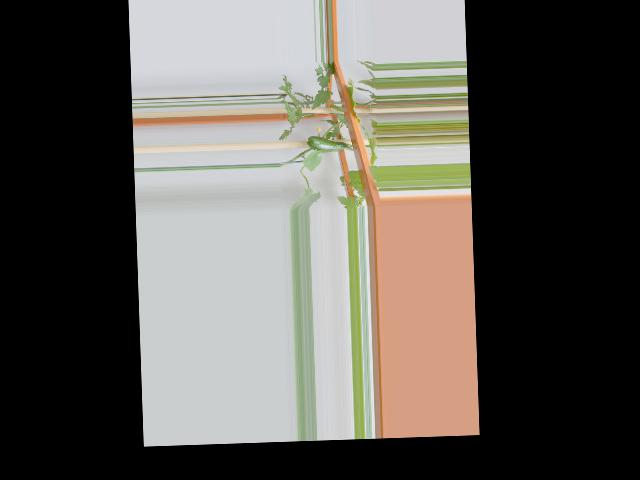cucumber: (303, 134, 346, 153)
